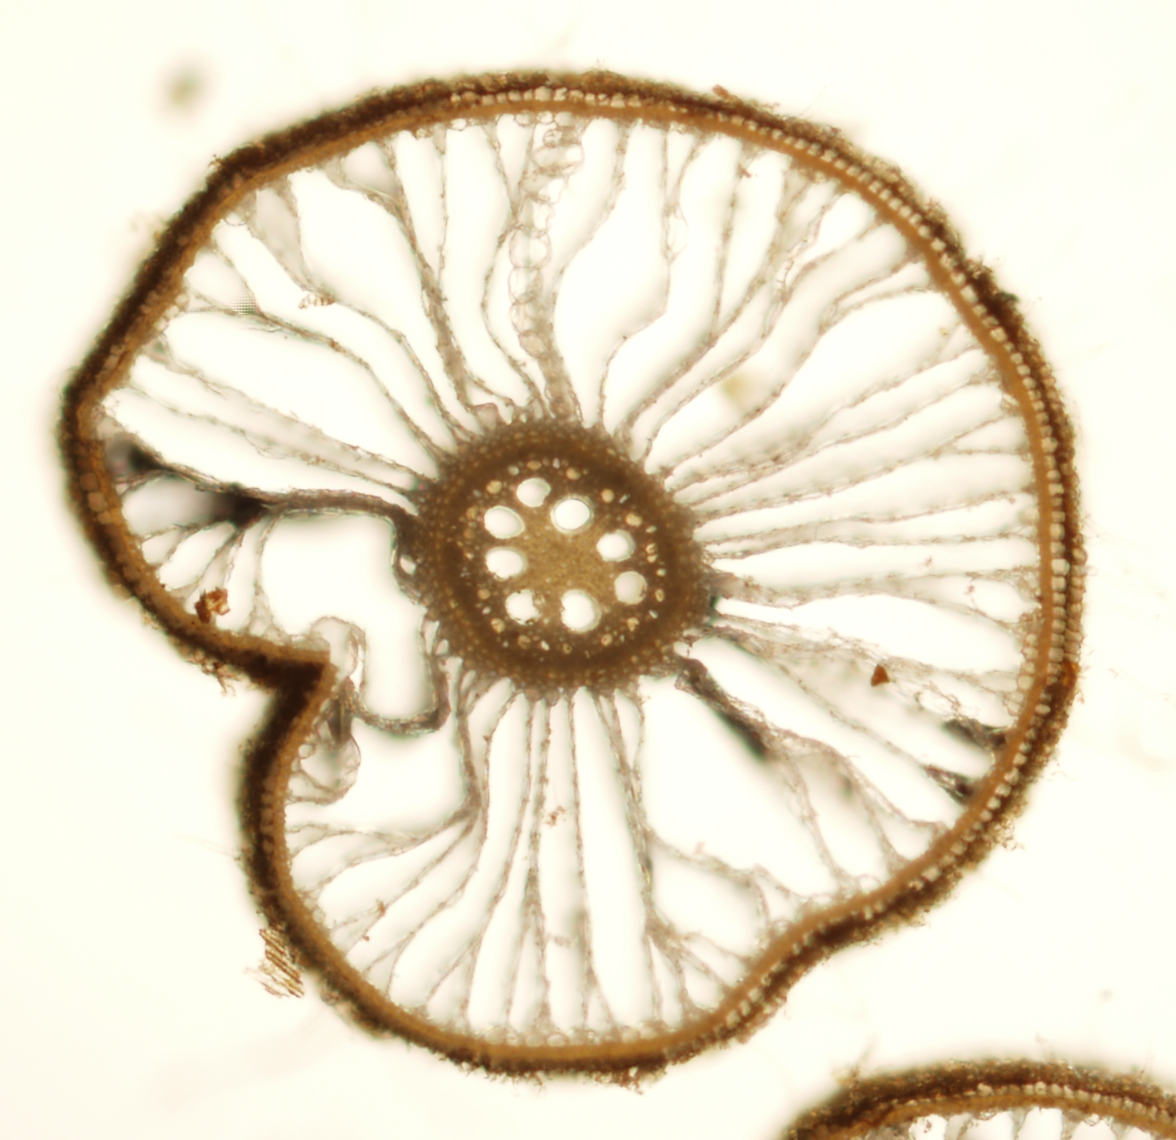lm: (560, 589, 603, 633), (550, 495, 594, 534), (505, 588, 547, 626), (485, 546, 528, 580), (483, 505, 525, 539), (596, 529, 636, 562), (614, 571, 648, 605), (516, 477, 551, 508)
